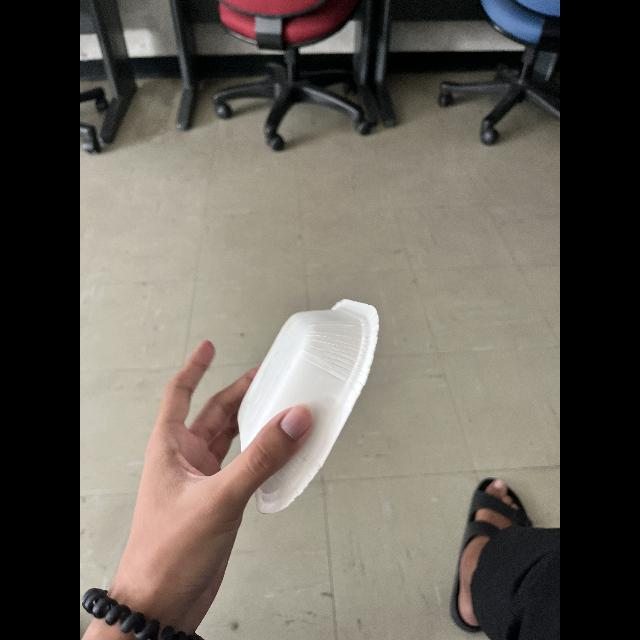cardboard_bowl: (224, 297, 390, 525)
